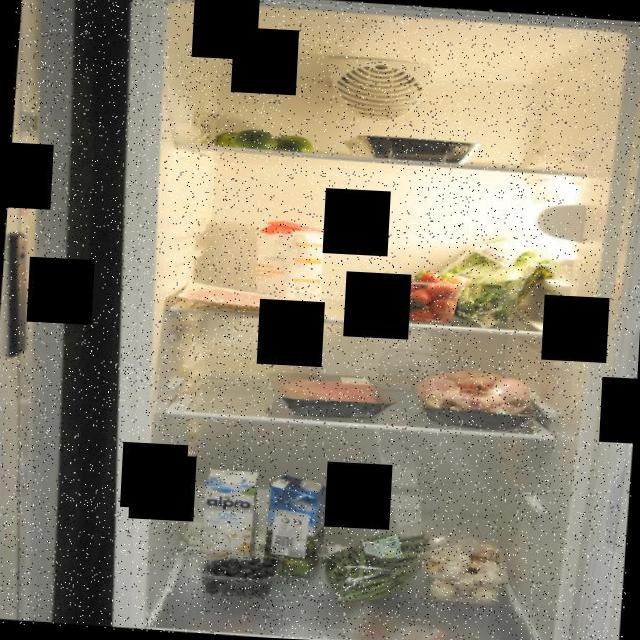Carne cerdo: (187, 284, 316, 316)
Carne pollo: (410, 360, 544, 432)
Carne vacuno: (274, 368, 386, 412)
Champiñones: (414, 522, 508, 604)
Leche: (262, 471, 331, 584), (197, 464, 264, 566)
blueberries: (198, 550, 276, 598)
green_beans: (317, 520, 437, 608)
spinach: (432, 233, 558, 332)
strawberries: (366, 261, 466, 327)
sugar: (251, 218, 330, 312)
